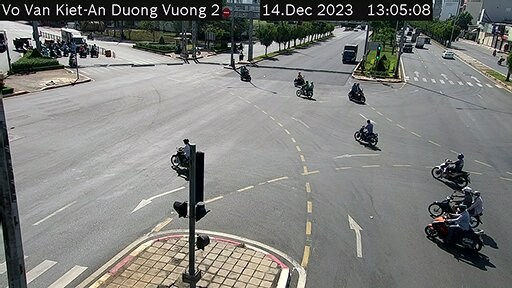motorbike: (427, 205, 495, 258), (423, 188, 490, 214), (430, 151, 474, 187), (353, 120, 381, 148), (347, 82, 372, 107), (298, 77, 316, 99), (238, 65, 251, 88), (291, 72, 308, 85)
truck: (343, 40, 358, 65)
